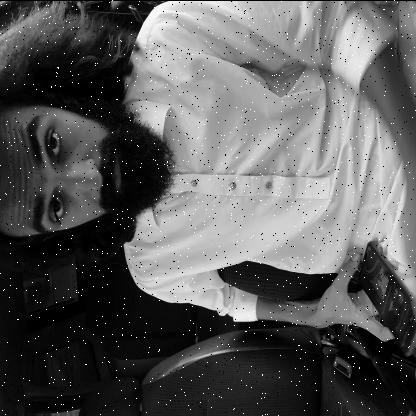no_seatbelt: (0, 17, 340, 271)
